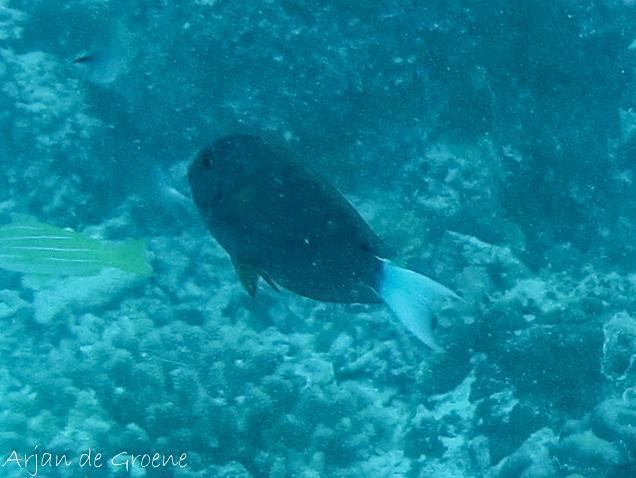Acanthurus thompsoni: (163, 118, 476, 370)
